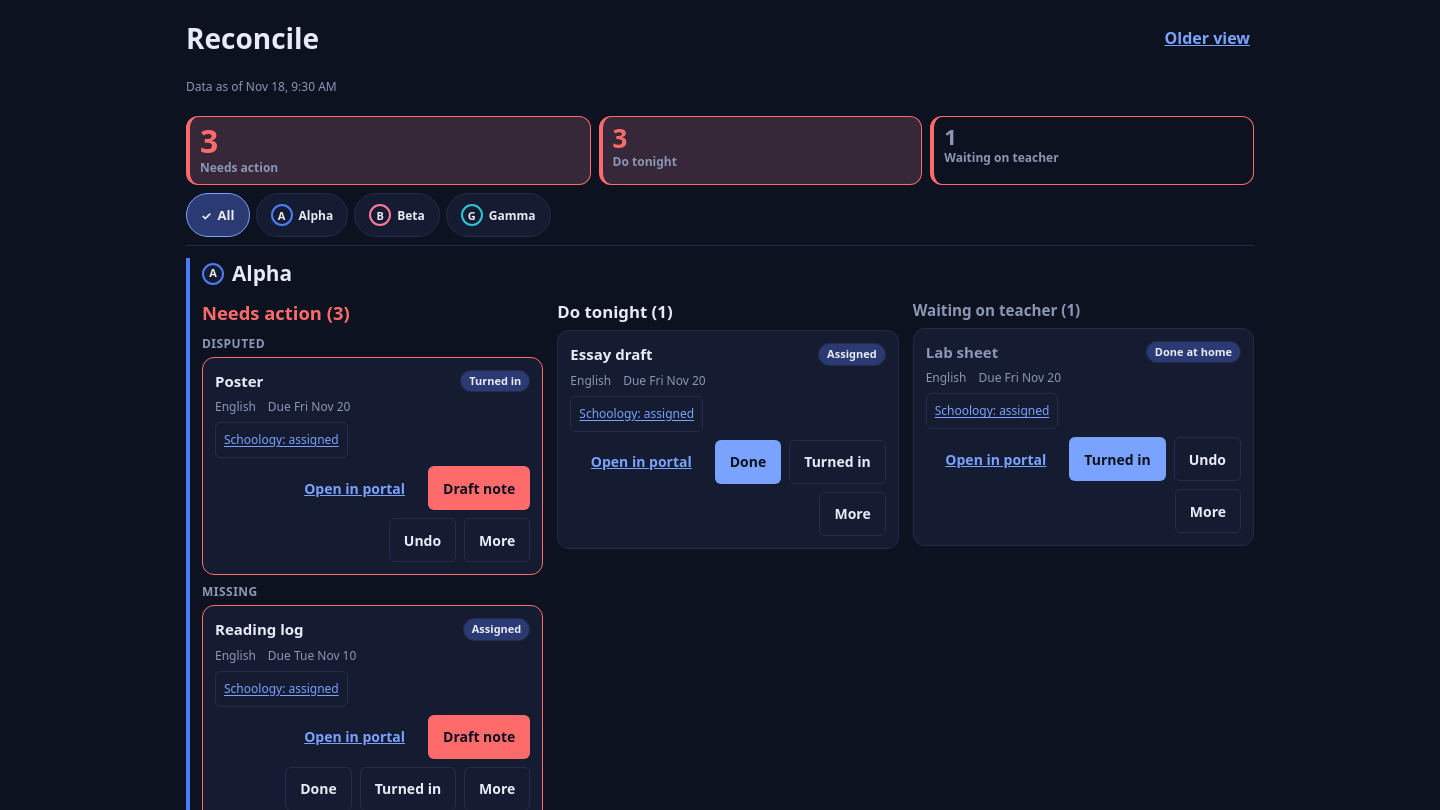
Test case: Copy uses the clipboard API
This screenshot has width=1440, height=810.
Expected: the heading "Alpha" is shown, [232, 258, 292, 289]
Click the button with aria-label "Draft note for Poster (English, Alpha)" at (479, 488), box [428, 466, 530, 510]
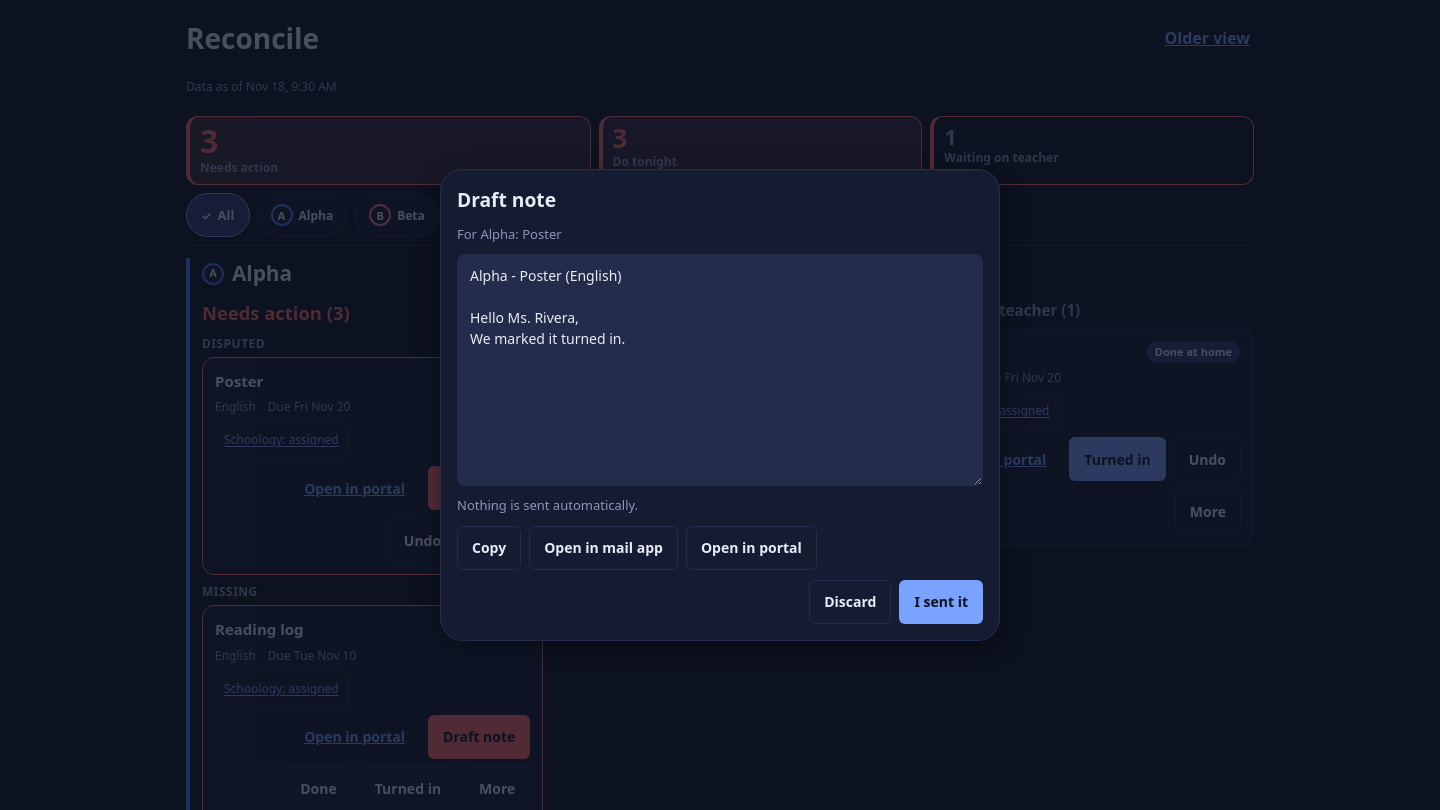
Click the button "Copy" at (489, 548), box [457, 526, 521, 570]
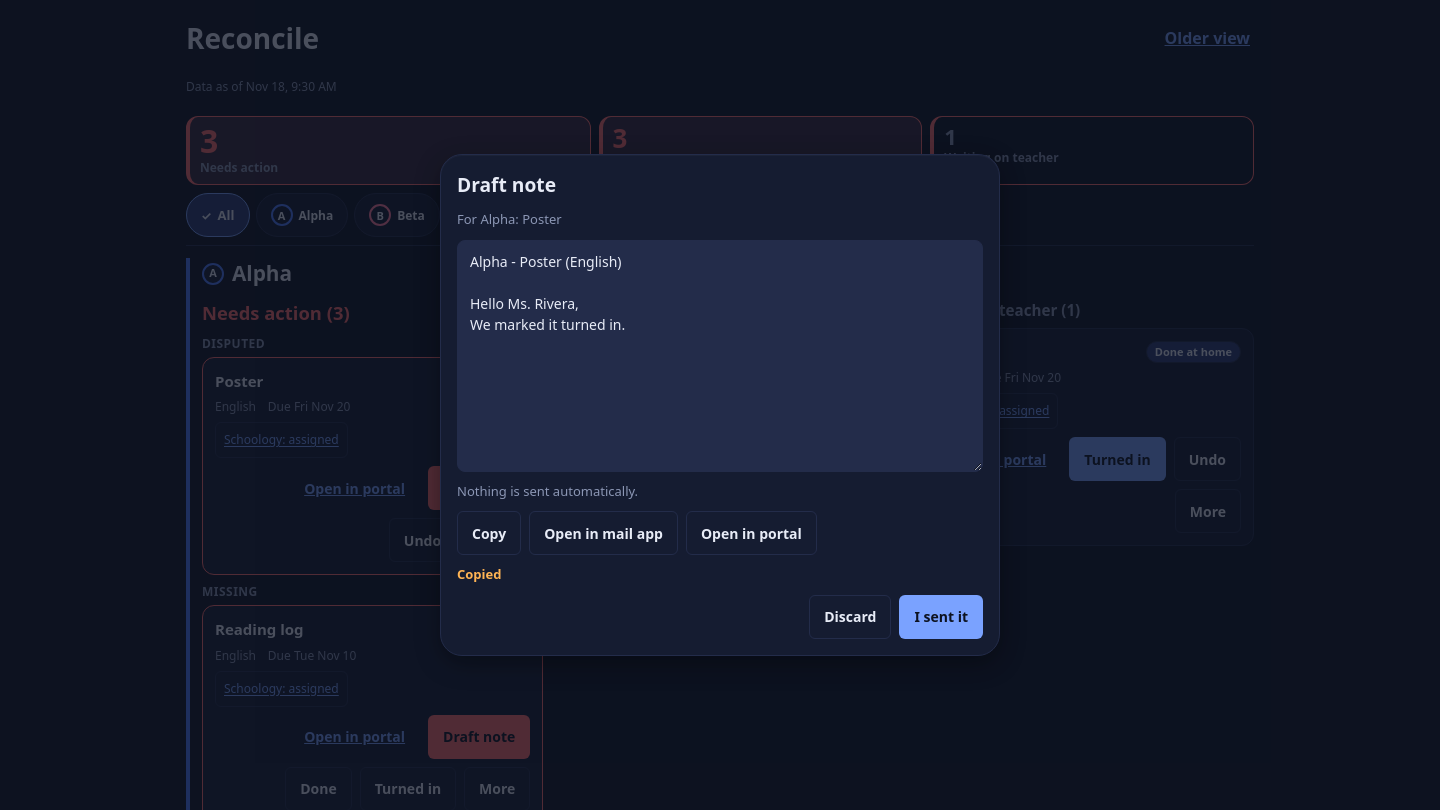
Result: the text "Copied" is shown at [457, 565, 501, 583]
